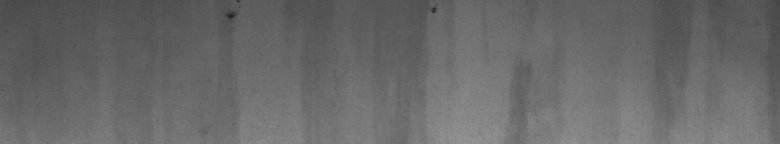fi: (226, 4, 240, 28)
